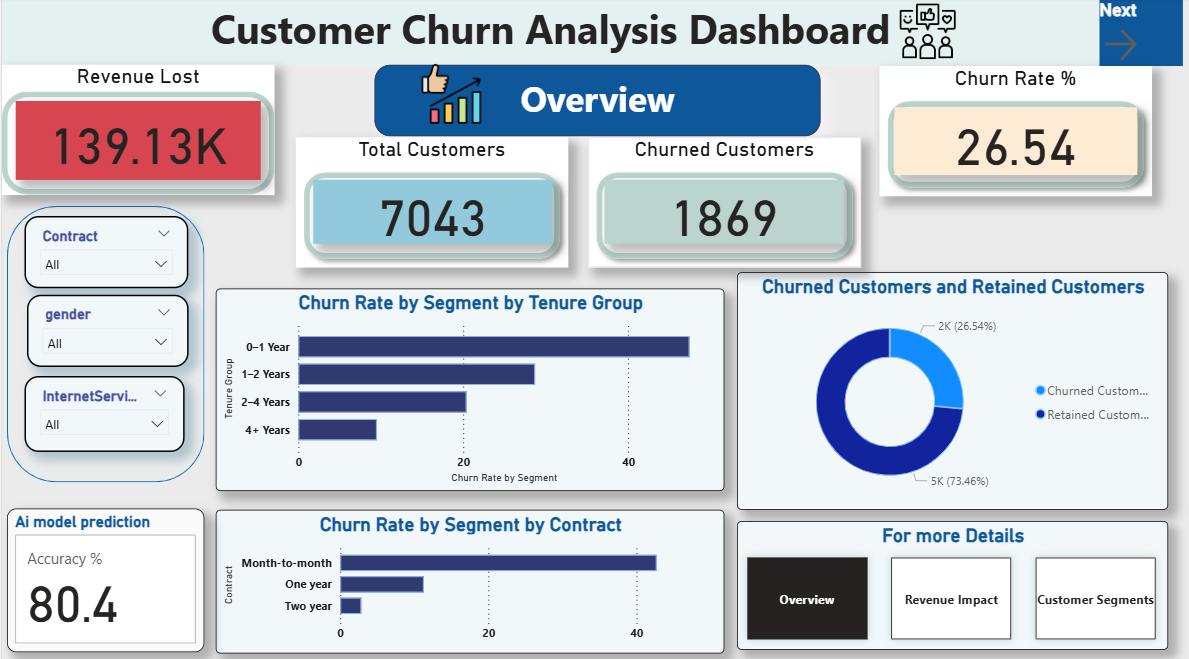

Layout of this report page (visuals, bound fields, positions):
{"tool":"powerbi","page":{"name":"Overview","canvas":[1280,720],"ordinal":0},"visuals":[{"type":"textbox","box":[0,0,1179,75.2],"z":0},{"type":"textbox","box":[400.2,73.9,479.4,76.5],"z":1000},{"type":"barChart","fields":{"Y":["Telco_Customer_Churn.Churn Rate by Segment"],"Category":["Telco_Customer_Churn.Contract"]},"box":[229.9,551.5,546.6,154.1],"z":2000},{"type":"barChart","fields":{"Y":["Telco_Customer_Churn.Churn Rate by Segment"],"Category":["Telco_Customer_Churn.Tenure Group"]},"box":[229.9,314.3,546.6,217.7],"z":3000},{"type":"donutChart","fields":{"Y":["Telco_Customer_Churn.Churned Customers","Telco_Customer_Churn.Retained Customers"]},"box":[789.6,296.8,463.3,255.1],"z":4000},{"type":"shape","box":[5.4,225.6,212.2,296.8],"z":5000},{"type":"slicer","fields":{"Values":["Telco_Customer_Churn.Contract"]},"box":[24.2,236.3,175.9,77.9],"z":6000},{"type":"slicer","fields":{"Values":["Telco_Customer_Churn.gender"]},"box":[26.9,320.9,173.2,77.9],"z":7000},{"type":"slicer","fields":{"Values":["Telco_Customer_Churn.InternetService"]},"box":[24.2,408.2,171.9,81.9],"z":8000},{"type":"image","box":[443.1,67.1,79.2,76.5],"z":9000},{"type":"image","box":[958.8,0,71.2,75.2],"z":10000},{"type":"actionButton","title":"Next","box":[1179,4,90,71.2],"z":11000},{"type":"shape","title":"Total Customers","box":[315.6,151.7,292.7,139.7],"z":12000},{"type":"shape","title":"Revenue Lost","box":[0,73.9,292.7,139.7],"z":13000},{"type":"shape","title":"Churned Customers","box":[629.8,151.7,292.7,139.7],"z":14000},{"type":"shape","title":"Churn Rate %","box":[942.7,75.2,292.7,139.7],"z":15000},{"type":"card","fields":{"Values":["Telco_Customer_Churn.Churned Customers"]},"box":[647.3,197.4,256.5,68.5],"z":16000},{"type":"card","fields":{"Values":["Telco_Customer_Churn.Revenue Lost"]},"box":[14.8,112.8,263.2,84.6],"z":17000},{"type":"card","fields":{"Values":["Telco_Customer_Churn.Total Customers"]},"box":[334.4,197.4,256.5,68.5],"z":18000},{"type":"card","fields":{"Values":["Telco_Customer_Churn.Churn Rate %"]},"box":[958.8,119.5,260.5,72.5],"z":19000},{"type":"pageNavigator","title":"For more Details","box":[789.6,564,463.3,138.3],"z":20000},{"type":"cardVisual","title":"Ai model prediction","fields":{"Data":["Model_Metrics.Accuracy %"]},"box":[5.4,550.6,212.2,154.4],"z":20001}]}

Visuals, with their boxes in screenshot pixels (x1, y1, x2, y2), scaled from the page's 1280x720 canvas onto the 1189x659 screenshot:
textbox: detection(0, 0, 1095, 69)
textbox: detection(372, 68, 817, 138)
barChart - Telco_Customer_Churn.Churn Rate by Segment x Telco_Customer_Churn.Contract: detection(214, 505, 721, 646)
barChart - Telco_Customer_Churn.Churn Rate by Segment x Telco_Customer_Churn.Tenure Group: detection(214, 288, 721, 487)
donutChart - Telco_Customer_Churn.Churned Customers x Telco_Customer_Churn.Retained Customers: detection(733, 272, 1164, 505)
shape: detection(5, 206, 202, 478)
slicer - Telco_Customer_Churn.Contract: detection(22, 216, 186, 288)
slicer - Telco_Customer_Churn.gender: detection(25, 294, 186, 365)
slicer - Telco_Customer_Churn.InternetService: detection(22, 374, 182, 449)
image: detection(412, 61, 485, 131)
image: detection(891, 0, 957, 69)
"Next" actionButton: detection(1095, 4, 1179, 69)
"Total Customers" shape: detection(293, 139, 565, 267)
"Revenue Lost" shape: detection(0, 68, 272, 196)
"Churned Customers" shape: detection(585, 139, 857, 267)
"Churn Rate %" shape: detection(876, 69, 1148, 197)
card - Telco_Customer_Churn.Churned Customers: detection(601, 181, 840, 243)
card - Telco_Customer_Churn.Revenue Lost: detection(14, 103, 258, 181)
card - Telco_Customer_Churn.Total Customers: detection(311, 181, 549, 243)
card - Telco_Customer_Churn.Churn Rate %: detection(891, 109, 1133, 176)
"For more Details" pageNavigator: detection(733, 516, 1164, 643)
"Ai model prediction" cardVisual: detection(5, 504, 202, 645)
